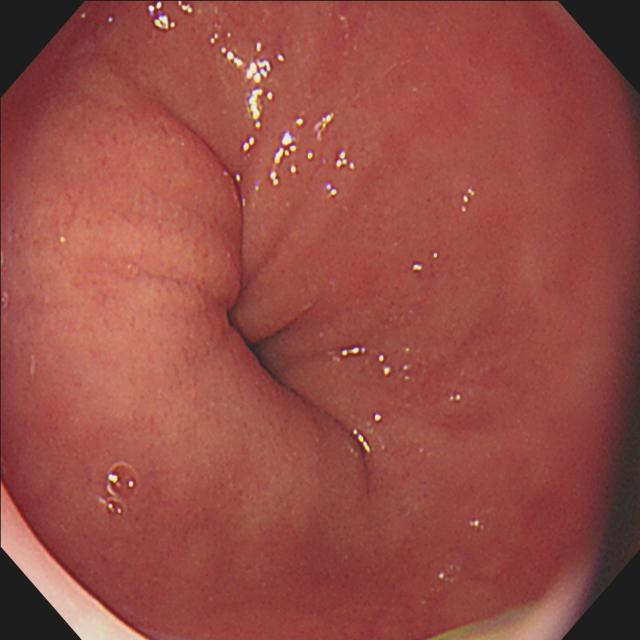T: (103, 459, 142, 521)
U: (247, 44, 275, 131), (270, 133, 299, 189), (148, 4, 176, 32), (220, 44, 247, 69), (353, 428, 375, 457), (313, 113, 334, 143), (336, 153, 358, 173), (338, 346, 368, 360), (379, 354, 394, 379), (462, 189, 477, 212), (173, 2, 197, 15), (240, 137, 257, 155), (327, 182, 339, 199), (296, 113, 307, 130), (209, 33, 222, 46), (413, 262, 426, 274), (305, 151, 314, 163)
